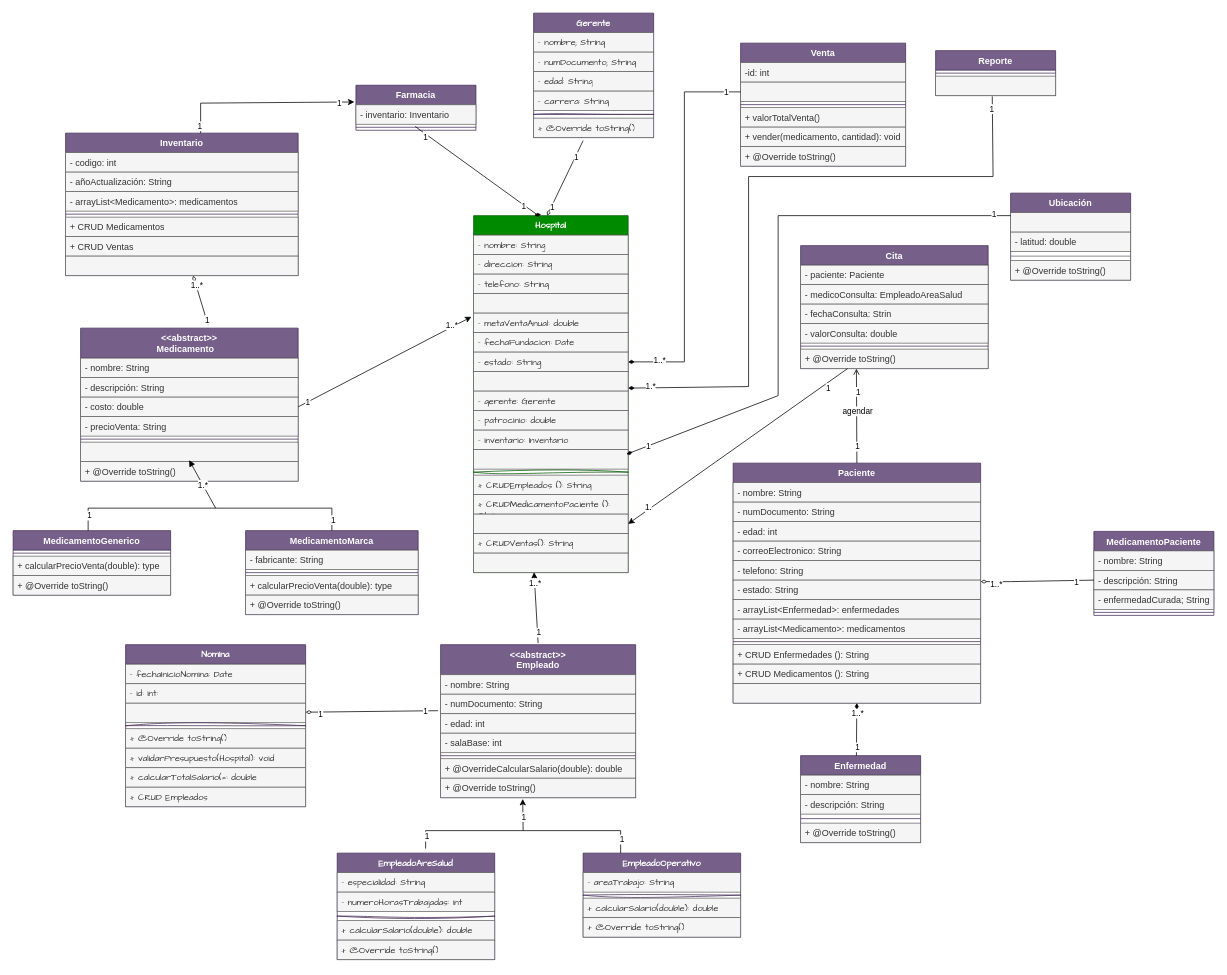
Some shapes in this 1227 by 975 pixel diagram are drawn without their labels. The centre of each missing label's shape, as x and y in pixels:
"+ @Override calcularPrecioVenta(double): double" goes at (x=189, y=451).
"+ @Override toString(): String" goes at (x=550, y=562).
"+ CRUDPacientes(): String" goes at (x=550, y=523).
"+ CRUDReporte():String" goes at (x=995, y=85).
"+ curarEnfermedades(medicamento,enfermedad): String" goes at (x=856, y=693).
"+ validarPresupuesto(Hospital,Medicamento):void" goes at (x=181, y=265).
"- farmacia:: Farmacia" goes at (x=550, y=459).
"- longitud: double" goes at (x=1070, y=222).
"- presupuesto: double" goes at (x=550, y=303).
"- totalNomina: double" goes at (x=215, y=712).
"- ubicación: Localizacion" goes at (x=550, y=381).
"- valorTotal: double" goes at (x=823, y=91).
